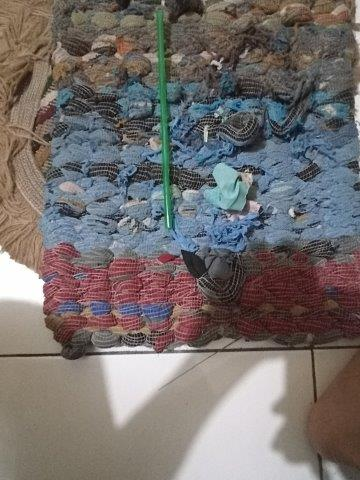sedotan: (157, 12, 174, 227)
